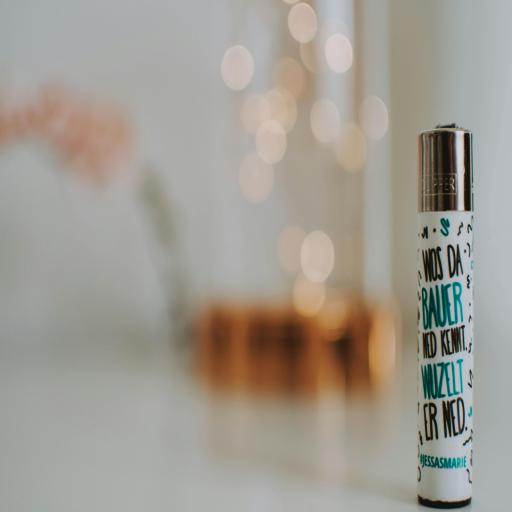lighter: (410, 100, 494, 512)
